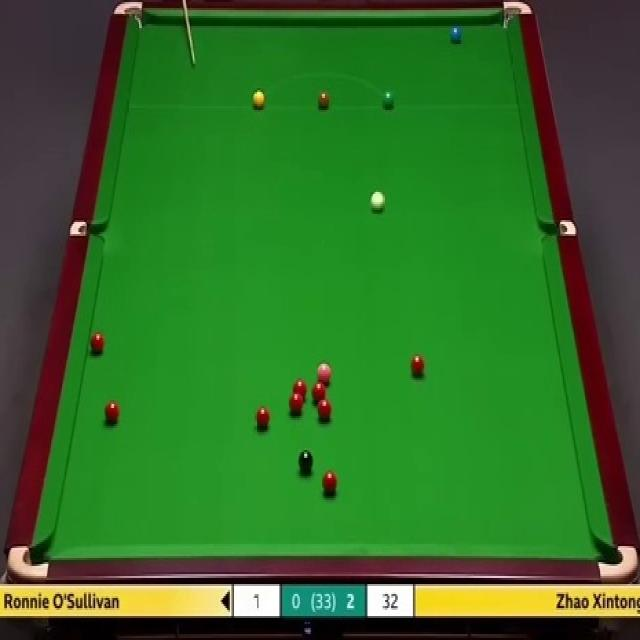black-ball: (299, 451, 315, 473)
blue-ball: (451, 25, 464, 44)
brown-ball: (318, 90, 331, 110)
green-ball: (381, 90, 395, 111)
pink-ball: (316, 359, 332, 384)
red-ball: (255, 405, 271, 432), (90, 332, 107, 356), (322, 470, 338, 494), (104, 400, 120, 424), (317, 396, 332, 421), (310, 380, 326, 402), (293, 378, 307, 401), (410, 356, 426, 376), (289, 393, 303, 414)
white-ball: (370, 190, 384, 213)
yellow-ball: (251, 89, 266, 110)
